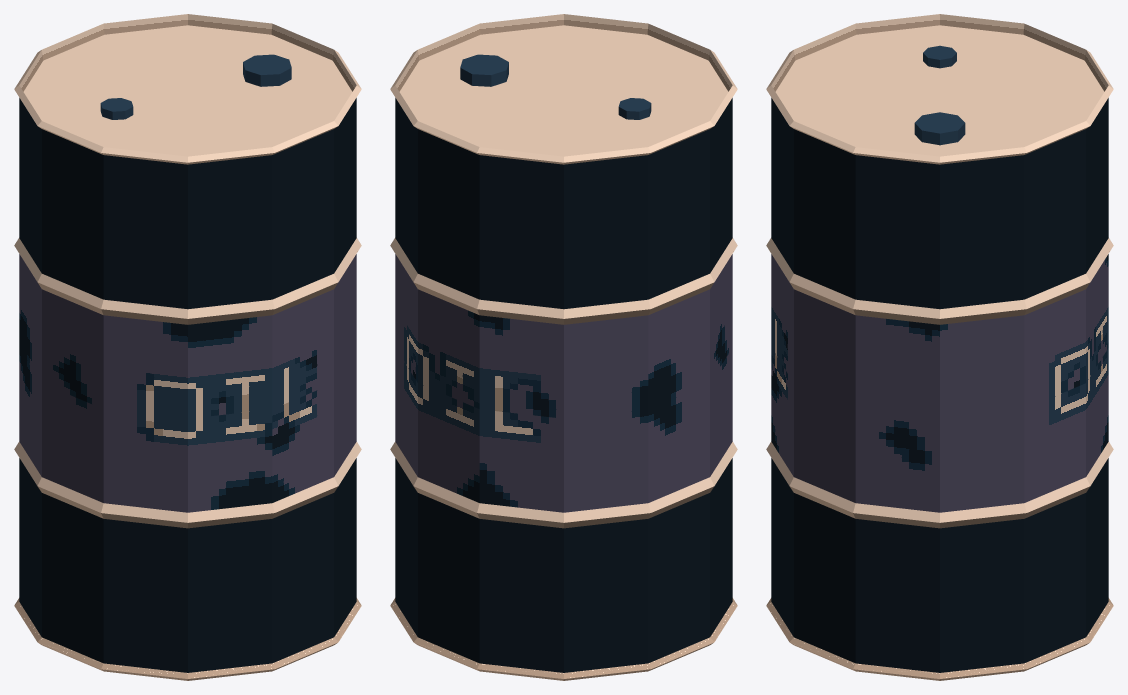
Rendered from Barrel.glb.
3 renders of one model, left to right at view 1: azimuth 30°, elevation 25°; view 2: azimuth 150°, elevation 25°; view 3: azimuth 270°, elevation 25°, orthographic.
Parts seen in each view (by area): view 1: Barrel-col; view 2: Barrel-col; view 3: Barrel-col.
Part boxes in pixels (x1,y1,x2,y2): Barrel-col: [14, 14, 361, 680]; Barrel-col: [390, 14, 737, 680]; Barrel-col: [766, 14, 1113, 680].
Size of the model in its own units: 0.721 by 1.2 by 0.721.
Materials: 1 (1 with a texture image).
